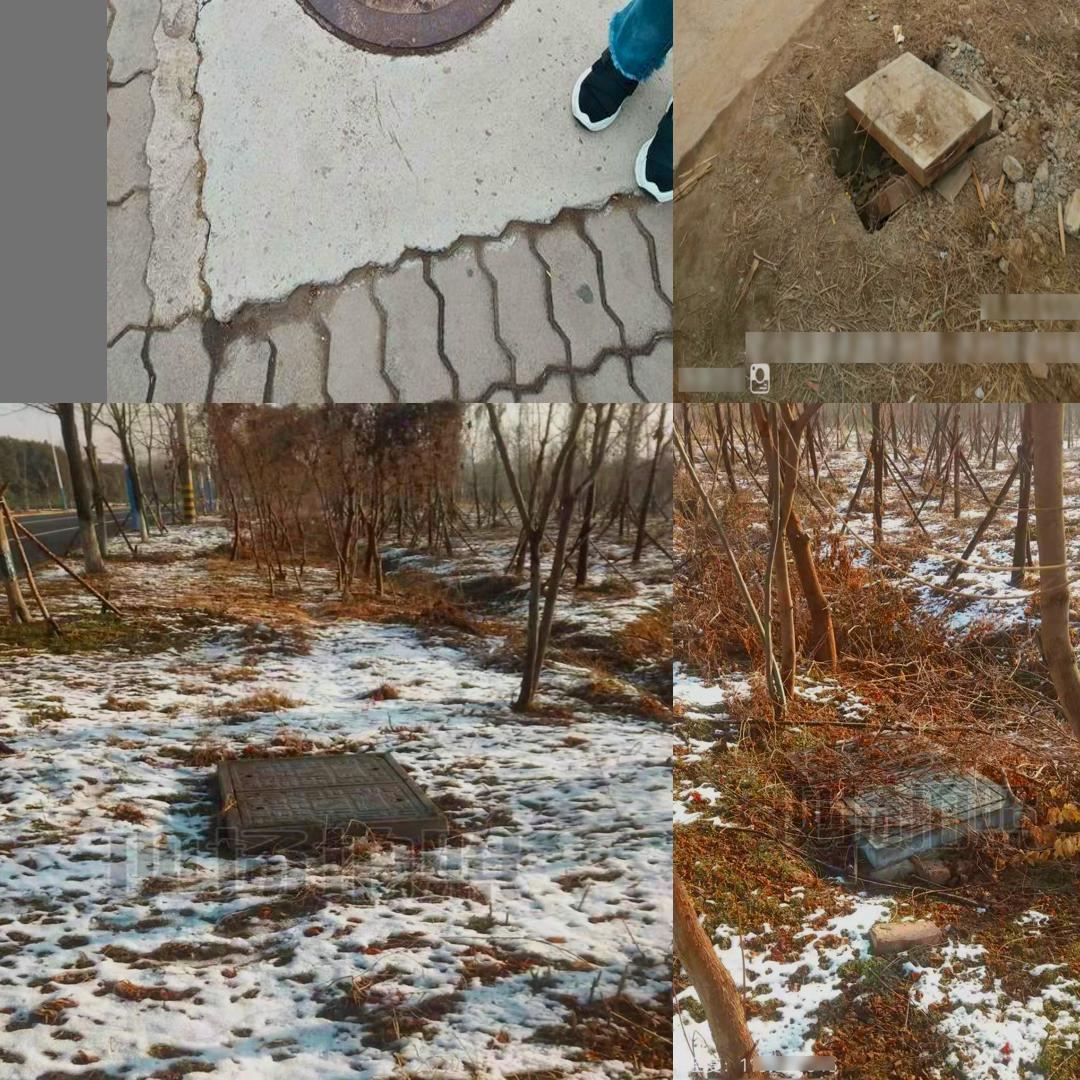circle: (810, 29, 1016, 250), (207, 0, 586, 97), (786, 722, 1025, 875), (205, 751, 464, 864)
